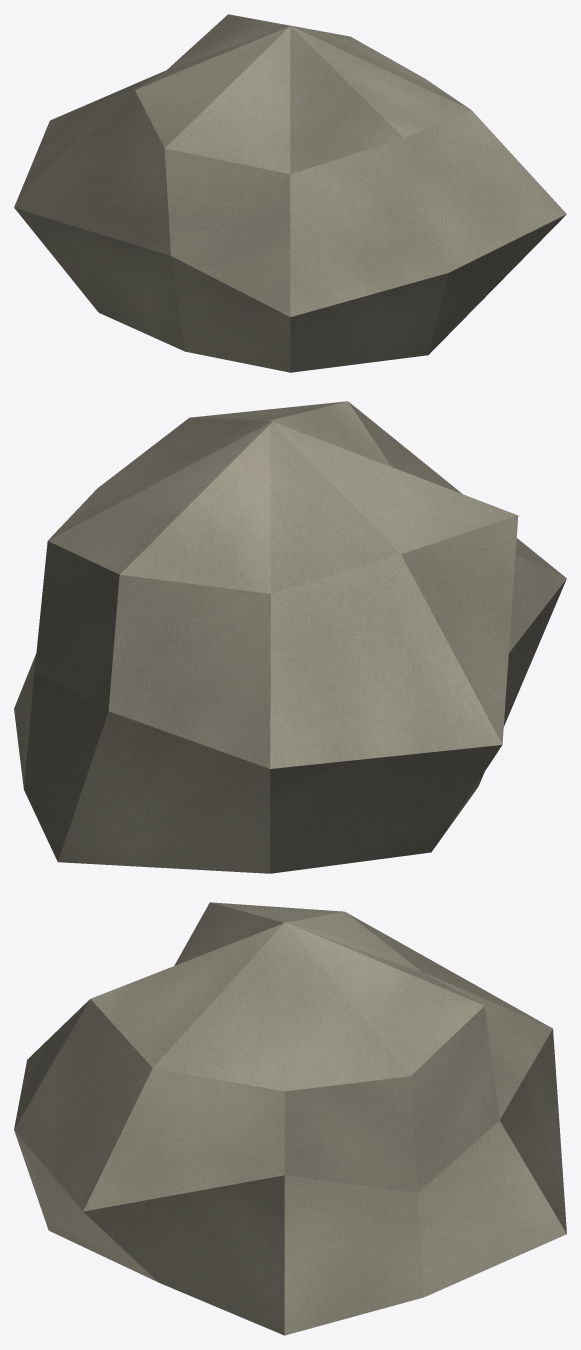
The model's file is rock_v3.glb.
3 renders of one model, top to bottom at view 1: azimuth 30°, elevation 25°; view 2: azimuth 150°, elevation 25°; view 3: azimuth 270°, elevation 25°, orthographic. The views are drawn at different scales.
Visible parts, largest first — view 1: Variant_rock_3; view 2: Variant_rock_3; view 3: Variant_rock_3.
Boxes of the visible parts, x1,y1,x2,y2 form: Variant_rock_3: (14,14,566,372); Variant_rock_3: (14,401,566,873); Variant_rock_3: (14,902,566,1335).
Size of the model in its own units: 0.9855 by 0.6 by 0.9885.
Materials: 1 (1 with a texture image).
